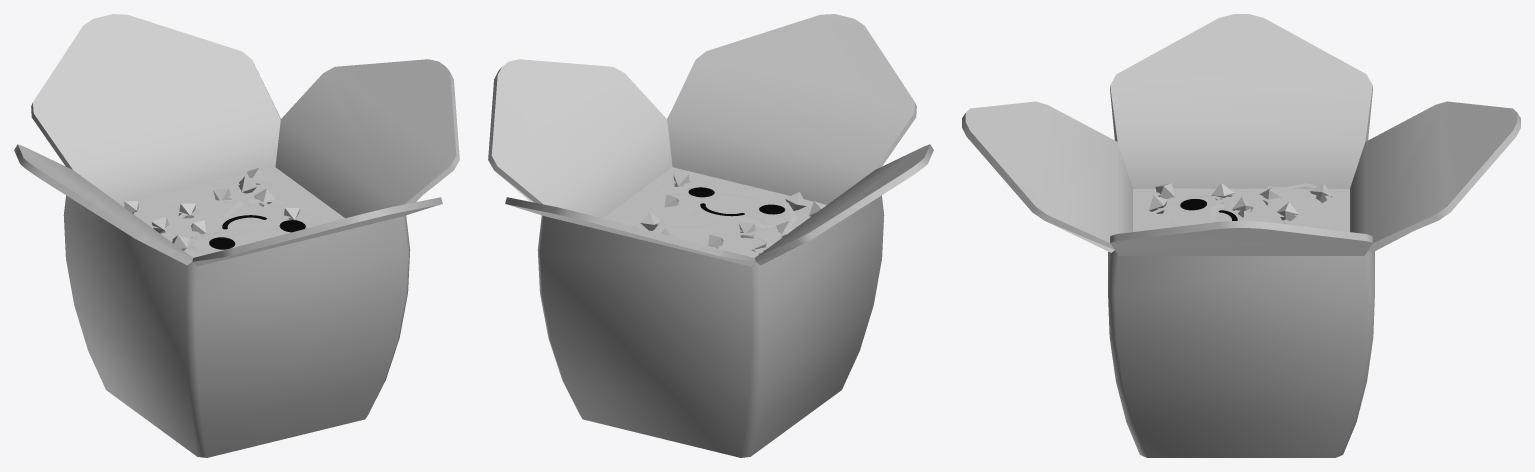
The model's file is noodles_smile.fbx.
3 renders of one model, left to right at view 1: azimuth 30°, elevation 25°; view 2: azimuth 150°, elevation 25°; view 3: azimuth 270°, elevation 25°, orthographic. The views are drawn at different scales.
Parts seen in each view (by area): view 1: noodles_smile; view 2: noodles_smile; view 3: noodles_smile.
Boxes of the visible parts, x1=… form: noodles_smile: x1=14, y1=14, x2=459, y2=457; noodles_smile: x1=488, y1=14, x2=933, y2=457; noodles_smile: x1=962, y1=14, x2=1520, y2=457.
Size of the model in its own units: 103 by 67.75 by 115.
2 materials, 1 textured.
